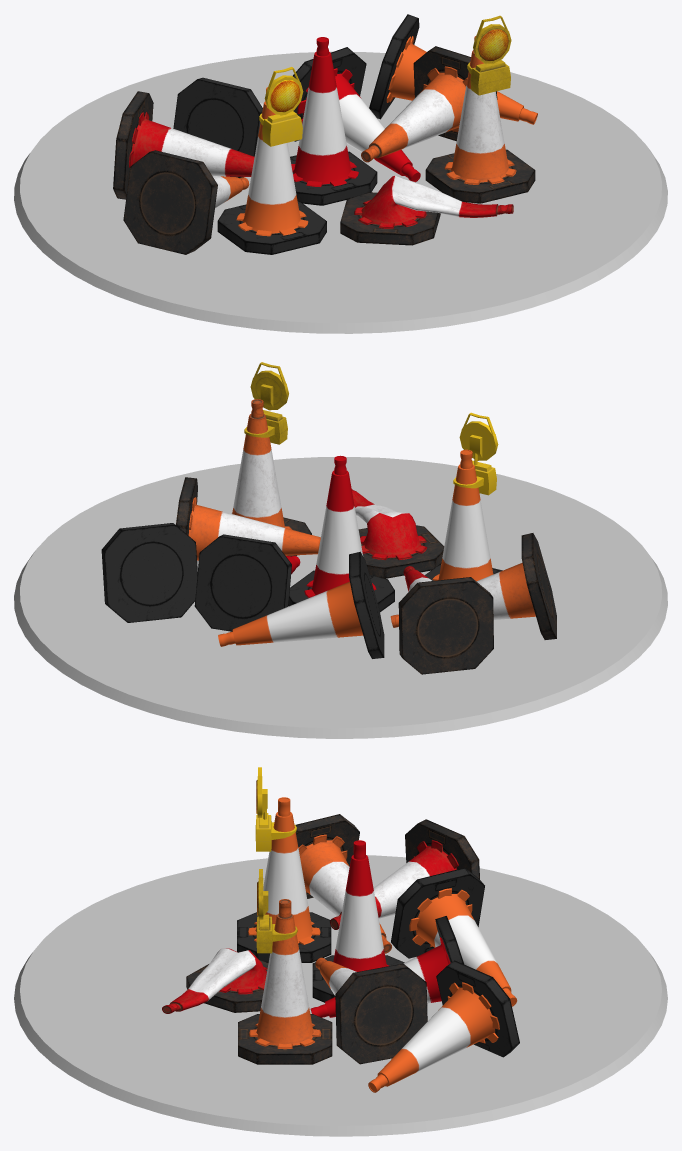
3 renders of one model, top to bottom at view 1: azimuth 30°, elevation 25°; view 2: azimuth 150°, elevation 25°; view 3: azimuth 270°, elevation 25°, orthographic.
Parts seen in each view (by area): view 1: Base, Traffic Cone Orange Dirt, Traffic Cone Orange Clean, Traffic Cone Red Dirt_Traffic Cone Red Dirt_0, Traffic Cone Red Clean, Traffic Cone Lights, Traffic Cone Dirt Lights; view 2: Base, Traffic Cone Orange Clean, Traffic Cone Red Dirt_Traffic Cone Red Dirt_0, Traffic Cone Red Clean, Traffic Cone Orange Dirt, Traffic Cone Lights, Traffic Cone Dirt Lights; view 3: Base, Traffic Cone Orange Clean, Traffic Cone Orange Dirt, Traffic Cone Red Dirt_Traffic Cone Red Dirt_0, Traffic Cone Red Clean, Traffic Cone Dirt Lights, Traffic Cone Lights.
Boxes of the visible parts, left/top/right/bottom form: Base: left=14, top=51, right=667, bottom=333; Traffic Cone Orange Dirt: left=123, top=36, right=535, bottom=254; Traffic Cone Orange Clean: left=173, top=14, right=537, bottom=254; Traffic Cone Red Dirt_Traffic Cone Red Dirt_0: left=113, top=91, right=513, bottom=245; Traffic Cone Red Clean: left=290, top=37, right=420, bottom=205; Traffic Cone Lights: left=259, top=67, right=303, bottom=146; Traffic Cone Dirt Lights: left=467, top=15, right=511, bottom=95; Base: left=14, top=457, right=667, bottom=738; Traffic Cone Orange Clean: left=101, top=449, right=502, bottom=658; Traffic Cone Red Dirt_Traffic Cone Red Dirt_0: left=351, top=489, right=493, bottom=674; Traffic Cone Red Clean: left=194, top=455, right=394, bottom=631; Traffic Cone Orange Dirt: left=176, top=399, right=556, bottom=639; Traffic Cone Lights: left=453, top=412, right=498, bottom=495; Traffic Cone Dirt Lights: left=244, top=362, right=288, bottom=444; Base: left=14, top=855, right=667, bottom=1136; Traffic Cone Orange Clean: left=237, top=797, right=519, bottom=1092; Traffic Cone Orange Dirt: left=238, top=814, right=427, bottom=1064; Traffic Cone Red Dirt_Traffic Cone Red Dirt_0: left=162, top=819, right=479, bottom=1013; Traffic Cone Red Clean: left=310, top=840, right=464, bottom=1017; Traffic Cone Dirt Lights: left=256, top=869, right=297, bottom=953; Traffic Cone Lights: left=255, top=767, right=296, bottom=851.
Bounding box in the file's own units: 329 × 99.49 × 329.
